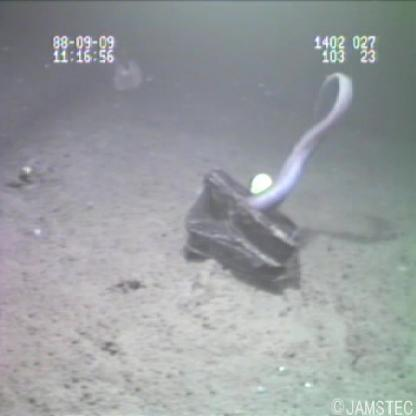Bio: (240, 65, 359, 217)
Rác: (181, 163, 304, 295)
